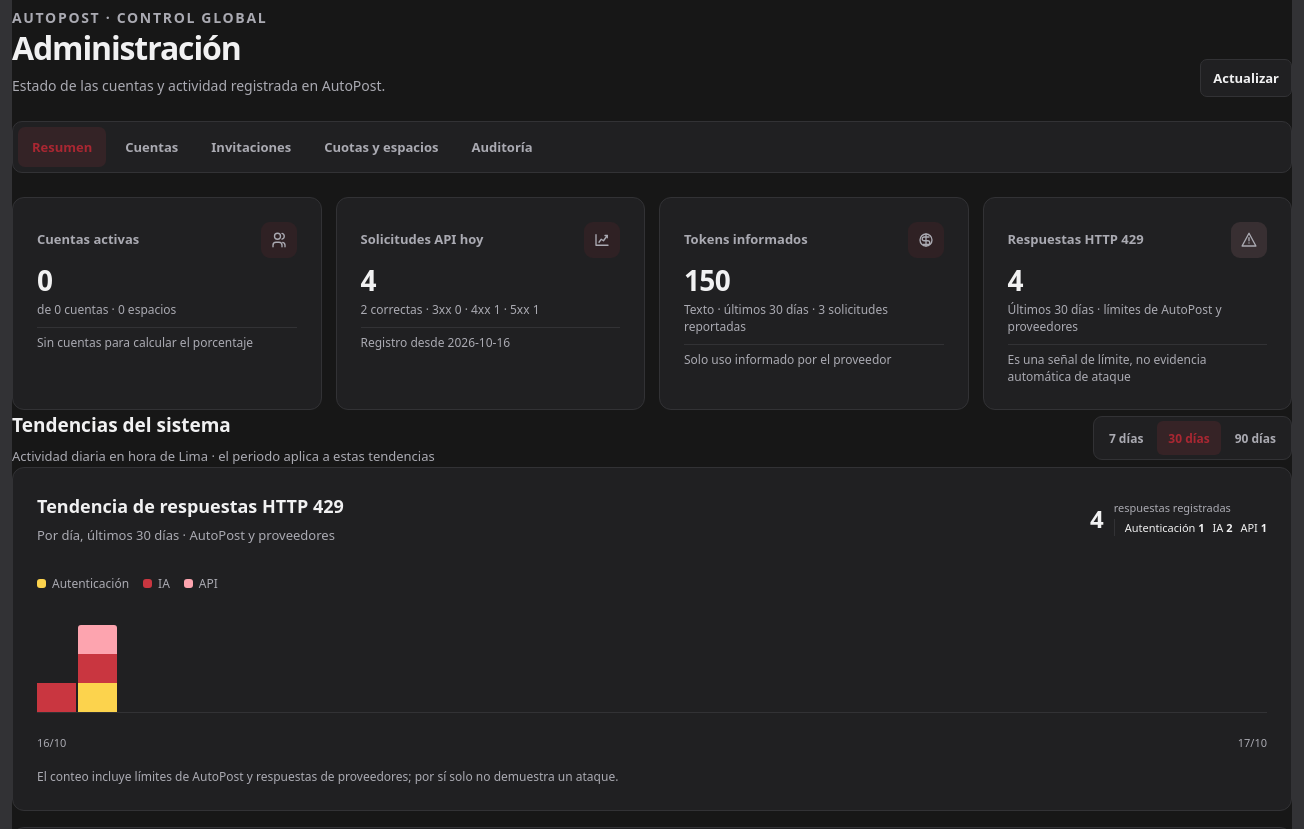
it: AdminComponent audit pagination › requests and labels the selected metrics period
Click the button "7 días" at coordinates (1126, 438), box [1098,422,1154,456]
(page scrolled)
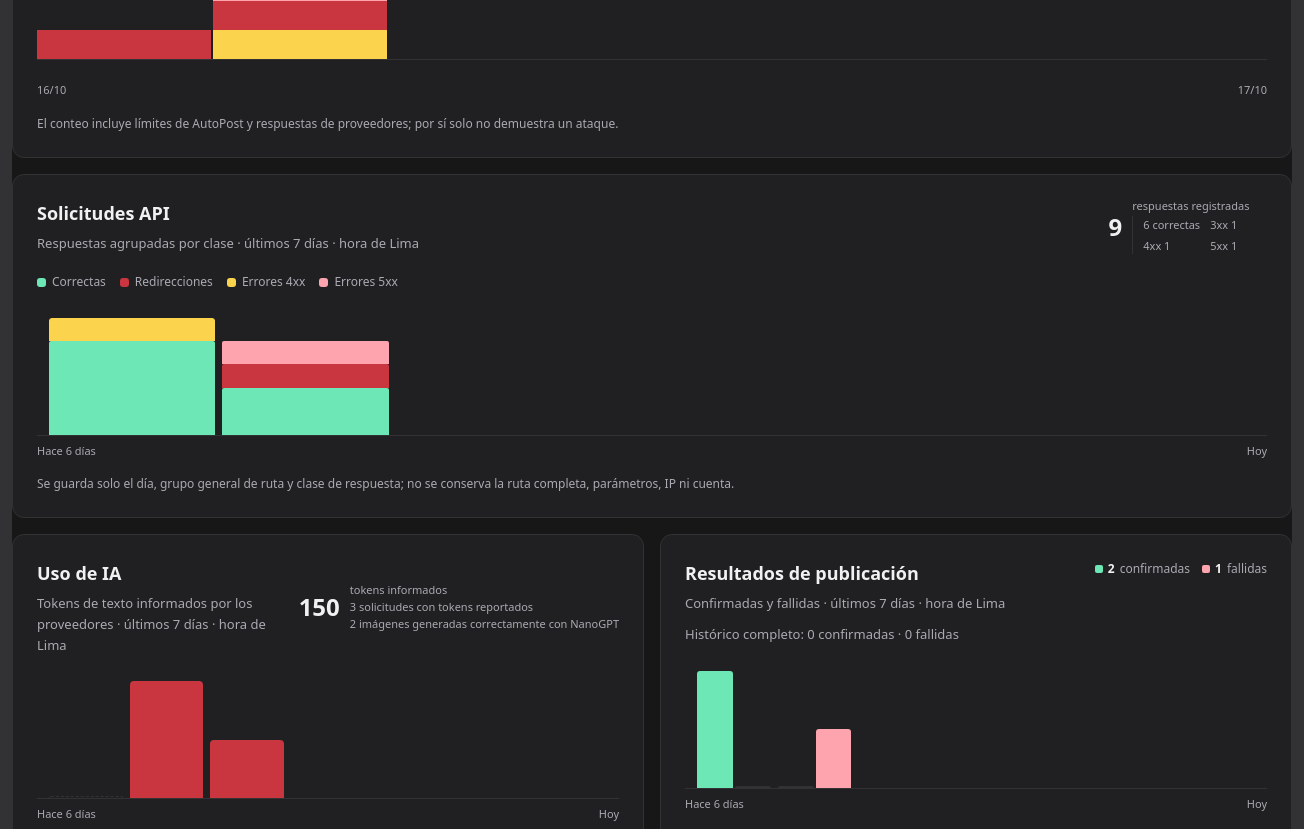
Result: the element with class "usage-axis" below "Redirecciones" shows "Hace 6 días" at [37,443,96,458]
